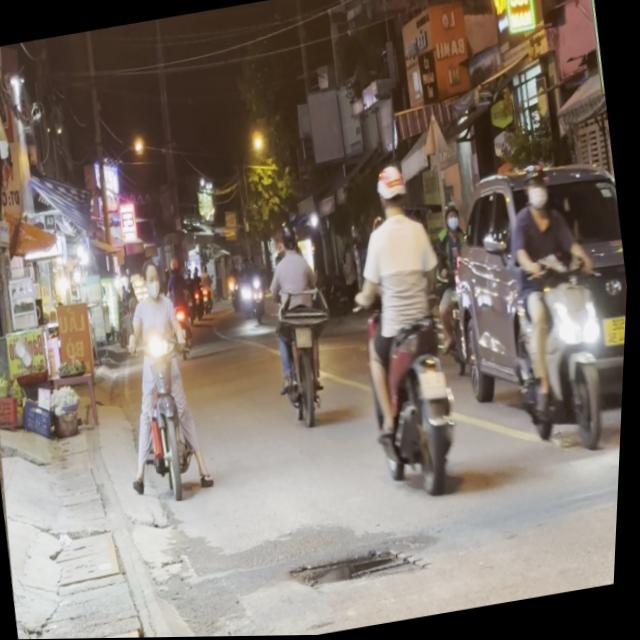helmet: (375, 162, 415, 218), (523, 162, 557, 215), (282, 221, 303, 253), (446, 200, 466, 232)
licenseplate: (332, 155, 484, 502), (481, 152, 634, 465), (105, 253, 227, 507), (255, 214, 354, 430)
motorcyclist: (142, 261, 168, 300)
nohelmet: (422, 369, 453, 401), (298, 327, 318, 349)
